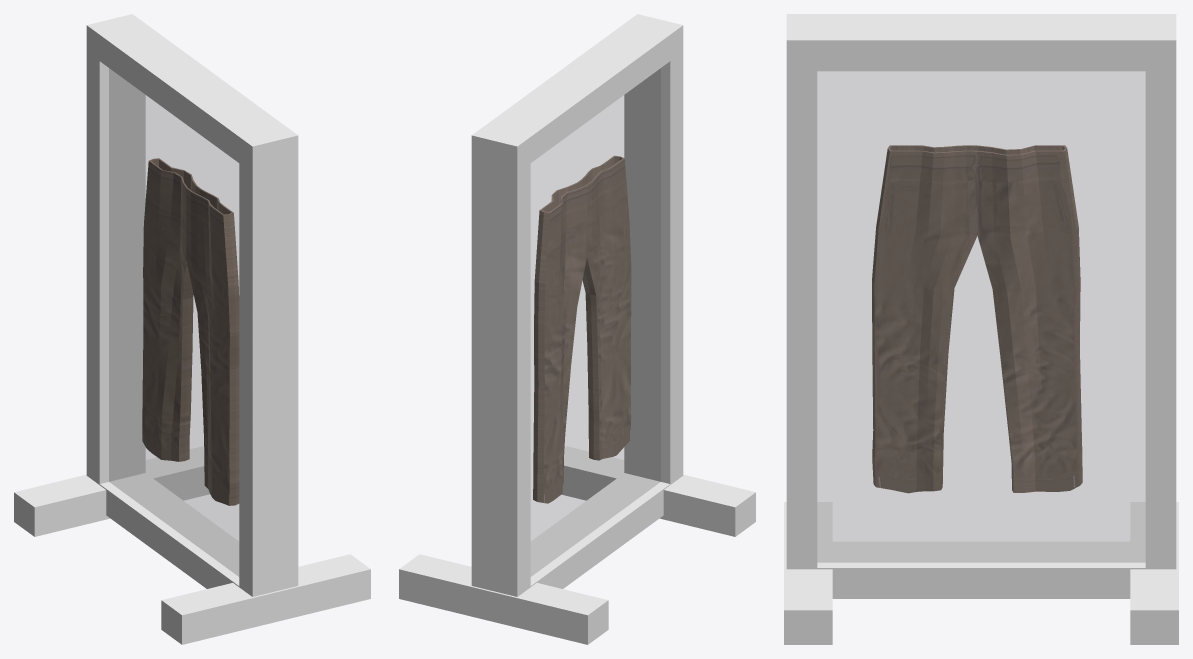
The model's file is chino_khaki.gltf.
The picture shows the model from 3 angles, left to right: view 1: azimuth 30°, elevation 25°; view 2: azimuth 150°, elevation 25°; view 3: azimuth 270°, elevation 25°; orthographic projection. The views are drawn at different scales.
Visible parts, largest first — view 1: Cube.044, Plane.009; view 2: Cube.044, Plane.009; view 3: Cube.044, Plane.009.
Boxes of the visible parts, x1,y1,x2,y2 form: Cube.044: (14,14,370,644); Plane.009: (142,158,239,505); Cube.044: (399,14,755,644); Plane.009: (533,155,631,503); Cube.044: (784,14,1178,644); Plane.009: (872,145,1082,493).
Size of the model in its own units: 0.2894 by 0.7029 by 0.4462.
Materials: 4 (1 with a texture image).
